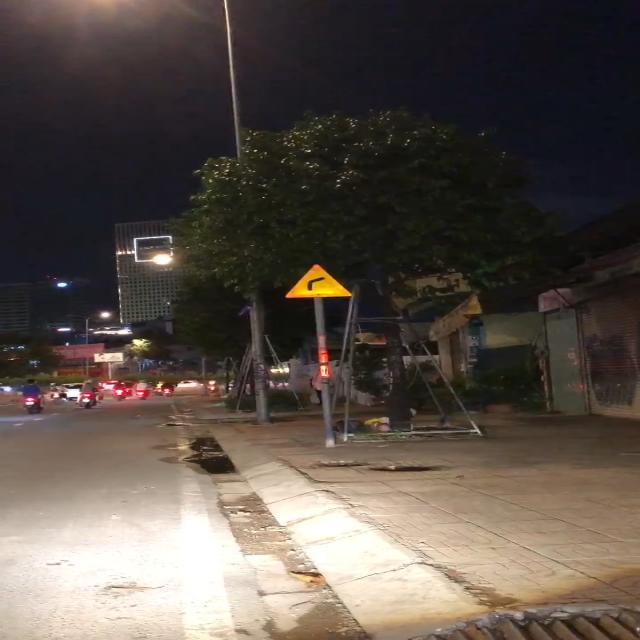Bien bao cho ngoat nguy hiem: (279, 257, 360, 303)
